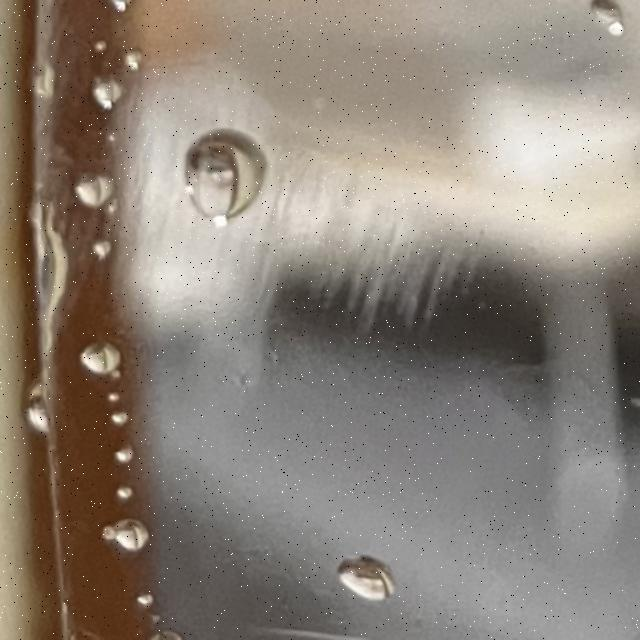raindrop: (167, 114, 275, 234), (49, 155, 123, 209), (330, 550, 396, 610), (83, 65, 144, 119), (577, 0, 640, 51), (67, 328, 121, 386), (108, 514, 154, 567), (26, 386, 63, 433), (112, 48, 162, 81), (74, 32, 110, 59), (132, 578, 159, 613), (95, 229, 126, 258), (110, 402, 138, 430), (107, 450, 136, 474), (110, 0, 152, 16), (116, 477, 141, 501), (194, 236, 198, 239)
